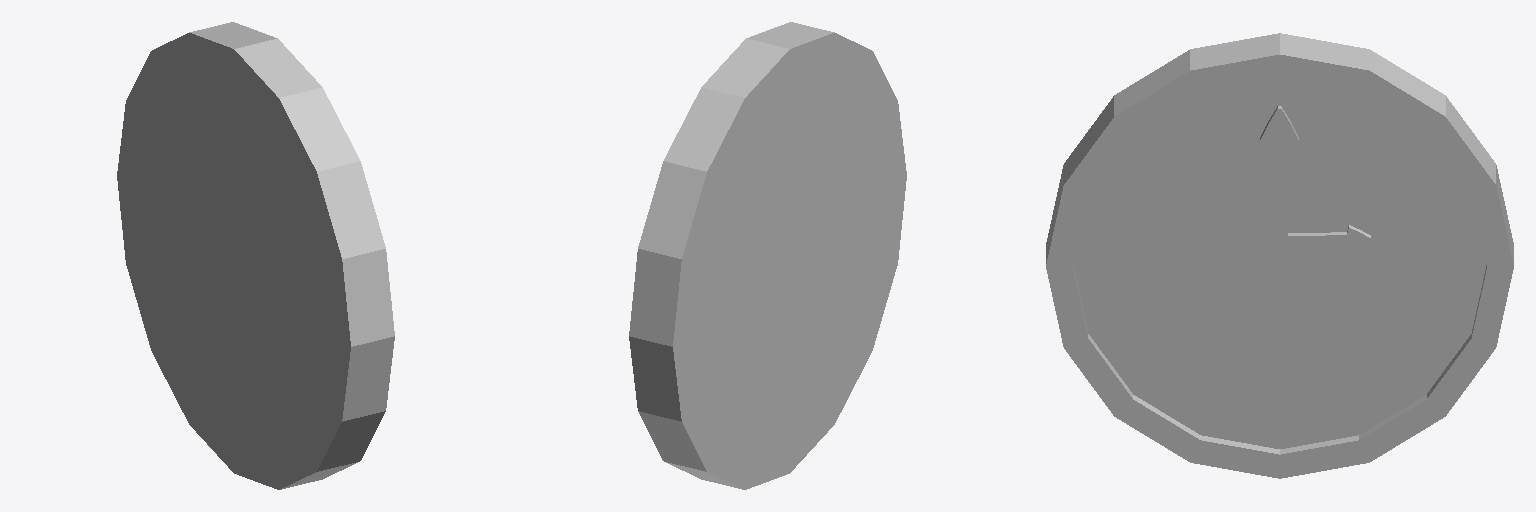
File: Relogio_de_Parede.obj
3 views of the same model, side by side, from view 1: azimuth 30°, elevation 25°; view 2: azimuth 150°, elevation 25°; view 3: azimuth 270°, elevation 25° (orthographic).
Visible parts, largest first — view 1: Cozinha_Relogio:relogiopCube73; view 2: Cozinha_Relogio:relogiopCube73; view 3: Cozinha_Relogio:relogiopCube73.
Part boxes in pixels (bbox=[...]): Cozinha_Relogio:relogiopCube73: bbox=[117, 22, 394, 489]; Cozinha_Relogio:relogiopCube73: bbox=[629, 22, 906, 489]; Cozinha_Relogio:relogiopCube73: bbox=[1046, 33, 1513, 478].
Size of the model in its own units: 0.0594 by 0.5487 by 0.5487.